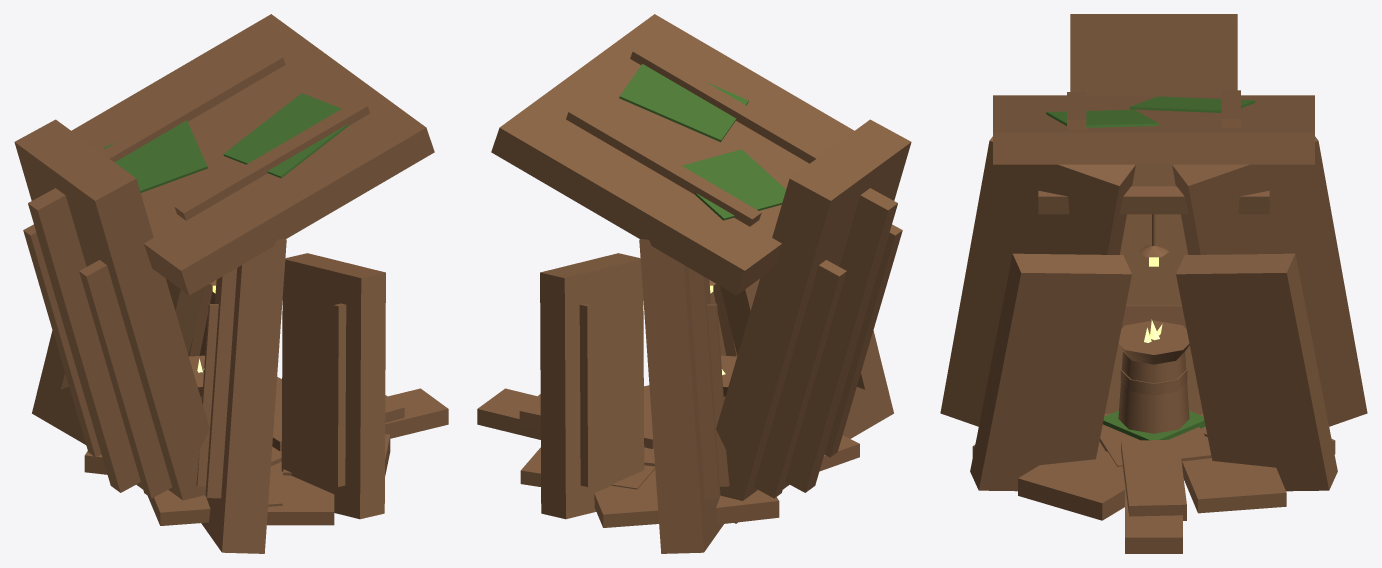
File: shrine-rainward-gate.glb
The picture shows the model from 3 angles, left to right: view 1: azimuth 30°, elevation 25°; view 2: azimuth 150°, elevation 25°; view 3: azimuth 270°, elevation 25°; orthographic projection. The views are drawn at different scales.
Visible parts, largest first — view 1: Mesh_RoofCap, Mesh_Slab_B1, Mesh_Slab_R2, Mesh_Slab_R1, Mesh_Spine_B1_Center, Mesh_Spine_B1_Right, Mesh_RoofRib_2, Mesh_RoofMoss_1, Mesh_Rib_R1_A, Mesh_Slab_L1, Mesh_RoofRib_1, Mesh_RoofMoss_2 (+8 smaller); view 2: Mesh_RoofCap, Mesh_Slab_B1, Mesh_Slab_L2, Mesh_Slab_L1, Mesh_Spine_B1_Center, Mesh_Spine_B1_Left, Mesh_RoofMoss_1, Mesh_RoofRib_1, Mesh_RoofRib_2, Mesh_Rib_L1_A, Mesh_Slab_R1, Mesh_RoofMoss_2 (+10 smaller); view 3: Mesh_Slab_L2, Mesh_Slab_R2, Mesh_Slab_B1, Mesh_Slab_L1, Mesh_Slab_R1, Mesh_RoofCap, Mesh_Flagstone_2, Mesh_Flagstone_4, Mesh_Step_2, Mesh_AltarPedestal, Mesh_CrossBeam, Mesh_AltarBasin (+9 smaller).
Boxes of the visible parts, x1,y1,x2,y2 form: Mesh_RoofCap: (71, 14, 434, 295); Mesh_Slab_B1: (14, 119, 209, 500); Mesh_Slab_R2: (281, 253, 385, 519); Mesh_Slab_R1: (201, 239, 286, 553); Mesh_Spine_B1_Center: (28, 188, 140, 492); Mesh_Spine_B1_Right: (79, 260, 171, 498); Mesh_RoofRib_2: (174, 99, 370, 220); Mesh_RoofMoss_1: (223, 93, 348, 178); Mesh_Rib_R1_A: (205, 268, 237, 498); Mesh_Slab_L1: (32, 279, 205, 444); Mesh_RoofRib_1: (100, 50, 285, 162); Mesh_RoofMoss_2: (104, 120, 207, 192); Mesh_RoofCap: (491, 14, 854, 295); Mesh_Slab_B1: (716, 119, 911, 523); Mesh_Slab_L2: (540, 253, 644, 519); Mesh_Slab_L1: (639, 239, 723, 553); Mesh_Spine_B1_Center: (785, 188, 897, 492); Mesh_Spine_B1_Left: (754, 260, 846, 498); Mesh_RoofMoss_1: (619, 64, 748, 142); Mesh_RoofRib_1: (566, 105, 761, 226); Mesh_RoofRib_2: (630, 45, 825, 163); Mesh_Rib_L1_A: (688, 268, 720, 498); Mesh_Slab_R1: (720, 279, 893, 438); Mesh_RoofMoss_2: (682, 149, 786, 220); Mesh_Slab_L2: (1176, 253, 1337, 491); Mesh_Slab_R2: (970, 253, 1131, 491); Mesh_Slab_B1: (1070, 14, 1237, 414); Mesh_Slab_L1: (1172, 136, 1367, 426); Mesh_Slab_R1: (940, 136, 1135, 426); Mesh_RoofCap: (993, 95, 1314, 164); Mesh_Flagstone_2: (1018, 449, 1124, 520); Mesh_Flagstone_4: (1182, 458, 1286, 513); Mesh_Step_2: (1121, 439, 1186, 520); Mesh_AltarPedestal: (1118, 352, 1189, 433); Mesh_CrossBeam: (1038, 186, 1269, 214); Mesh_AltarBasin: (1118, 320, 1189, 364).
Bounding box in the file's own units: 3.74 × 3.44 × 3.32.
